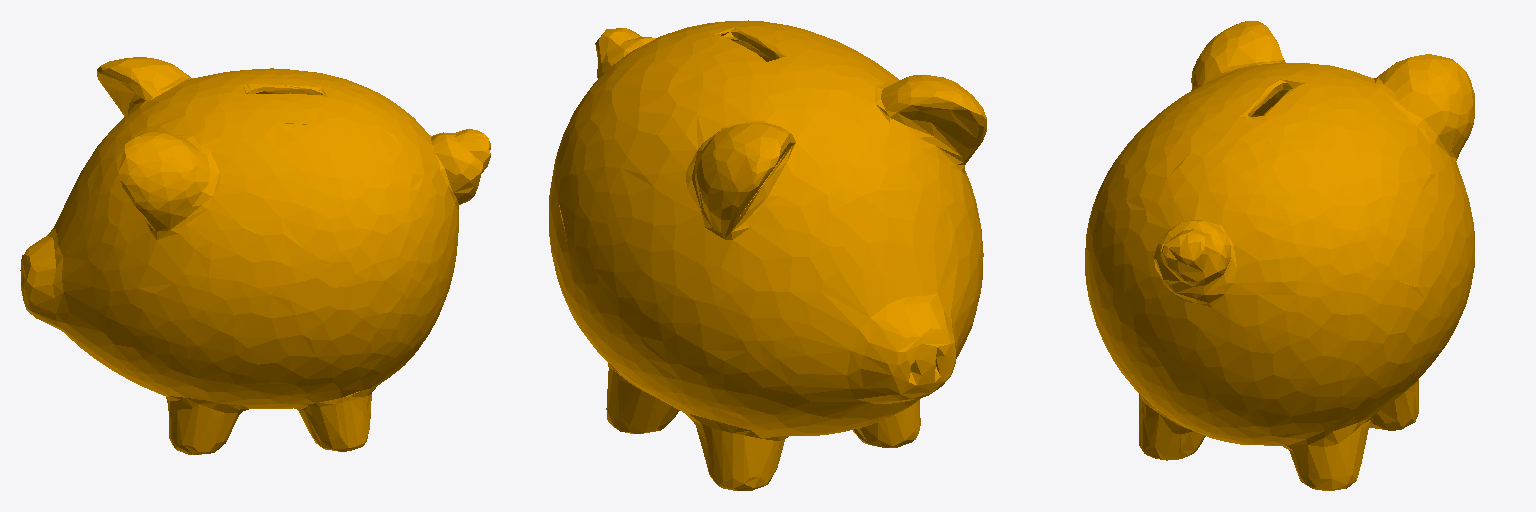
The robot description file, URDF, robot "mesh_object":
<?xml version="1.0" ?>
            <robot name="mesh_object">
            <link name="base">
                <visual>
                    <geometry>
                        <mesh filename="1.obj" scale="1.0 1.0 1.0"/>
                    </geometry>
                </visual>
                <collision>
                    <geometry>
                        <mesh filename="1.obj" scale="1.0 1.0 1.0"/>
                    </geometry>
                </collision>
                <inertial>
                    <origin xyz="0 0 0.040494925" rpy="0 0 0"/>
                    <mass value="0.5"/>
                    <inertia ixx="0.01" iyy="0.01" izz="0.01" ixy="0" ixz="0" iyz="0"/>
                </inertial>
            </link>
            </robot>
        

--- What the picture shows (computed from the rendered views, not written in the file) ---
Views: 3 orthographic renders of the robot side by side, from view 1: azimuth 30°, elevation 25°; view 2: azimuth 150°, elevation 25°; view 3: azimuth 270°, elevation 25°.
Model mesh_object with 1 links and 0 joints (none), rooted at base, posed all joints at 0.
Links seen in each view (by area): view 1: base; view 2: base; view 3: base.
Boxes of the visible links, x1,y1,x2,y2 form: base: [20, 57, 490, 454]; base: [549, 20, 986, 490]; base: [1085, 21, 1474, 490].
Bounding box of the posed robot: 0.0998 × 0.0818 × 0.081 m (x, y, z).
Meshes: 1 distinct files referenced, 1 mesh visuals loaded (1 OBJ).
